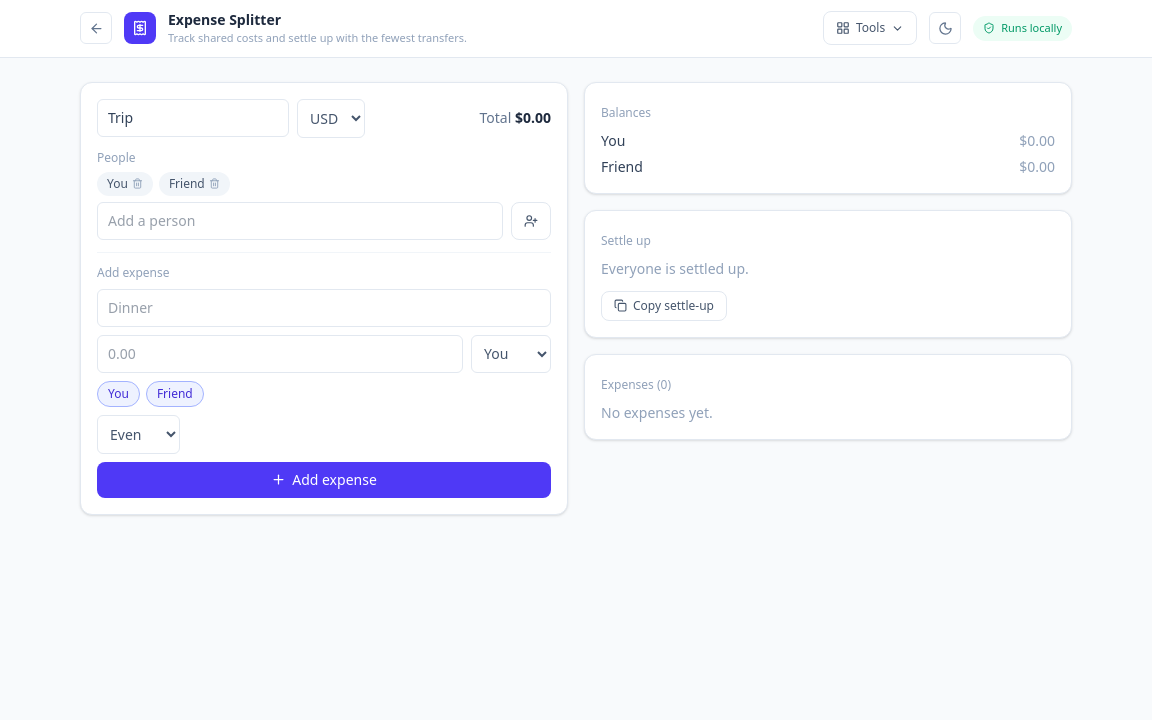
Test: SplitApp › adds a person
Step 1. Type "Cara" into the field named "New person name" → (300, 220), box 97,202 -> 503,240
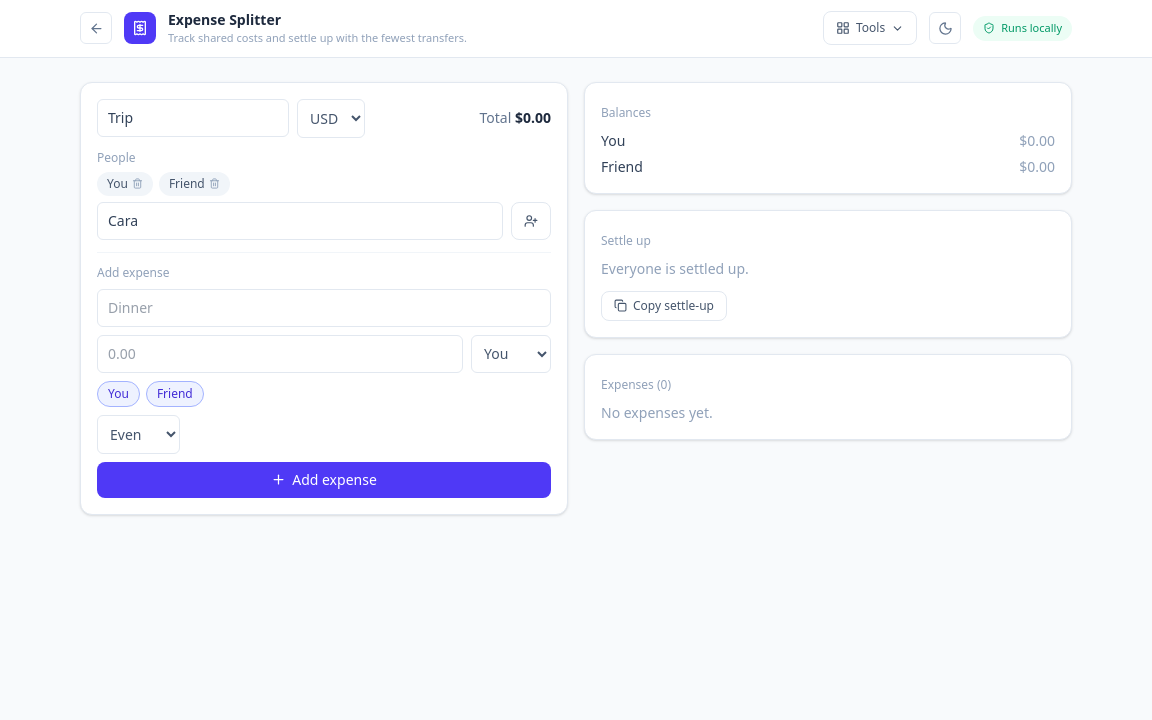
Step 2. Click the button named "Add person" → (531, 220), box 511,202 -> 551,240
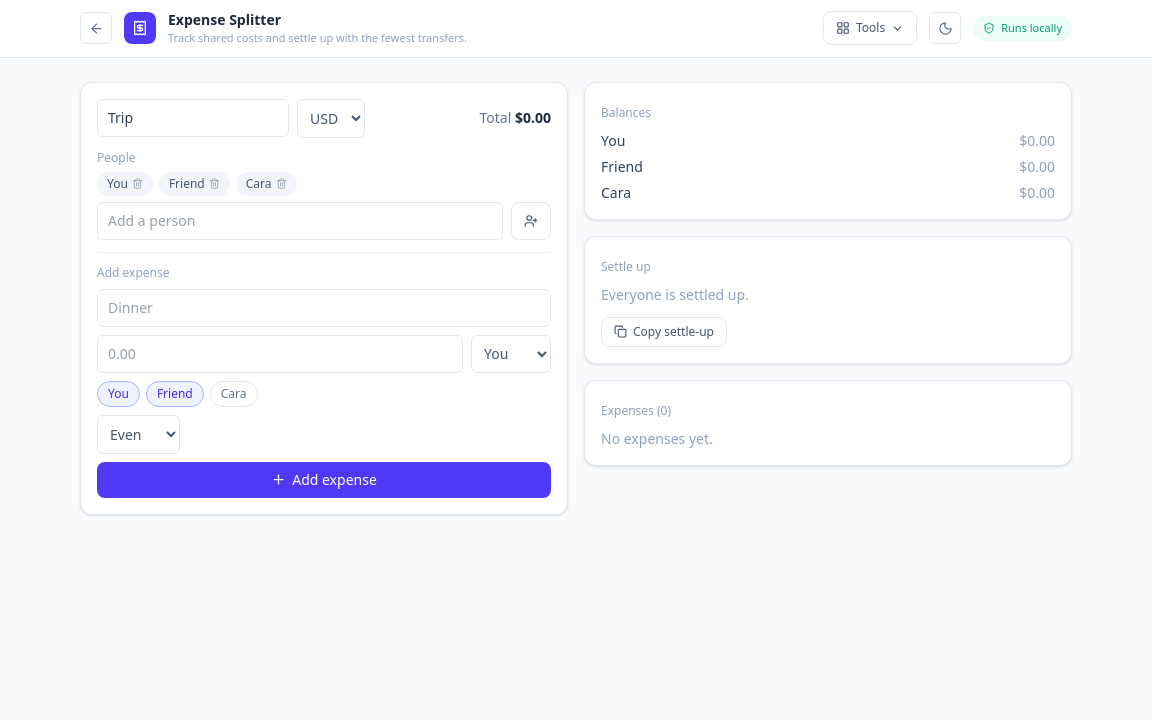
Now the text "Cara" is shown, box 236,172 -> 296,196
